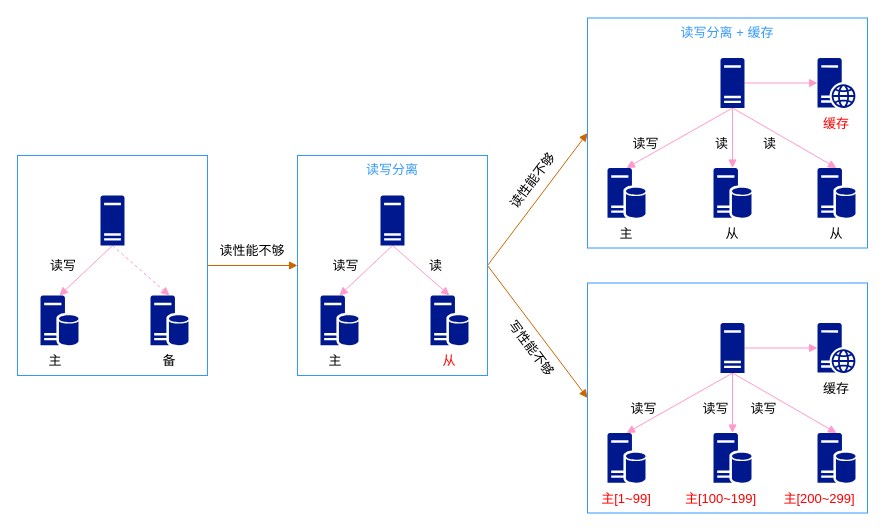
This 885x530 diagram has some shape labels left out. The shapes that lost their labels are listed below. From the top down, each one's box as (x1, y1, x2, y2) in pixels, then its label:
(16, 154, 208, 376): 主备存储
(586, 282, 868, 513): 数据分片 + 缓存
